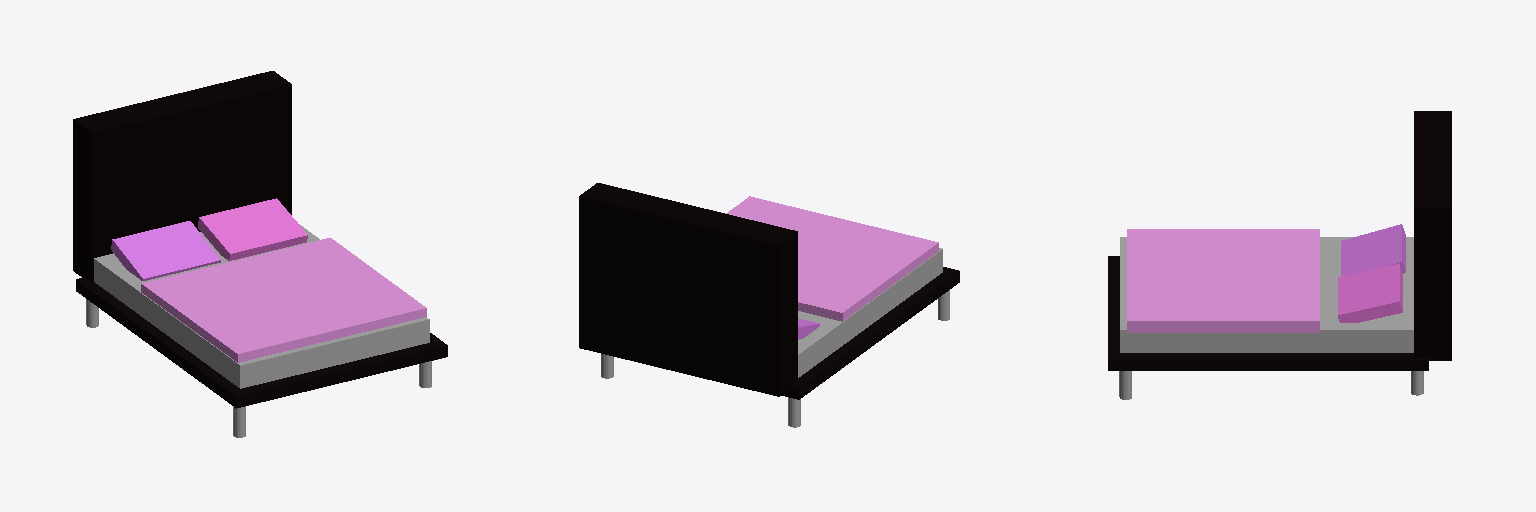
Rendered from pink-bed.obj.
The picture shows the model from 3 angles: view 1: azimuth 30°, elevation 25°; view 2: azimuth 150°, elevation 25°; view 3: azimuth 270°, elevation 25°; orthographic projection.
Visible parts, largest first — view 1: Box2, Box5, Box1, Box, Box4, Box3; view 2: Box2, Box5, Box1, Box; view 3: Box5, Box1, Box2, Box, Box4, Box3.
Part boxes in pixels (left/top/right/bottom): Box2: left=73, top=71, right=291, bottom=282; Box5: left=141, top=238, right=426, bottom=362; Box1: left=94, top=224, right=429, bottom=388; Box: left=76, top=277, right=447, bottom=408; Box4: left=198, top=198, right=307, bottom=260; Box3: left=111, top=221, right=220, bottom=280; Box2: left=579, top=183, right=797, bottom=396; Box5: left=726, top=196, right=938, bottom=321; Box1: left=798, top=248, right=942, bottom=377; Box: left=781, top=267, right=959, bottom=399; Box5: left=1127, top=229, right=1319, bottom=332; Box1: left=1120, top=237, right=1413, bottom=352; Box2: left=1414, top=111, right=1451, bottom=360; Box: left=1108, top=256, right=1428, bottom=370; Box4: left=1338, top=263, right=1402, bottom=322; Box3: left=1341, top=224, right=1405, bottom=276.
Bounding box in the file's own units: 1.9 × 1.67 × 2.68.